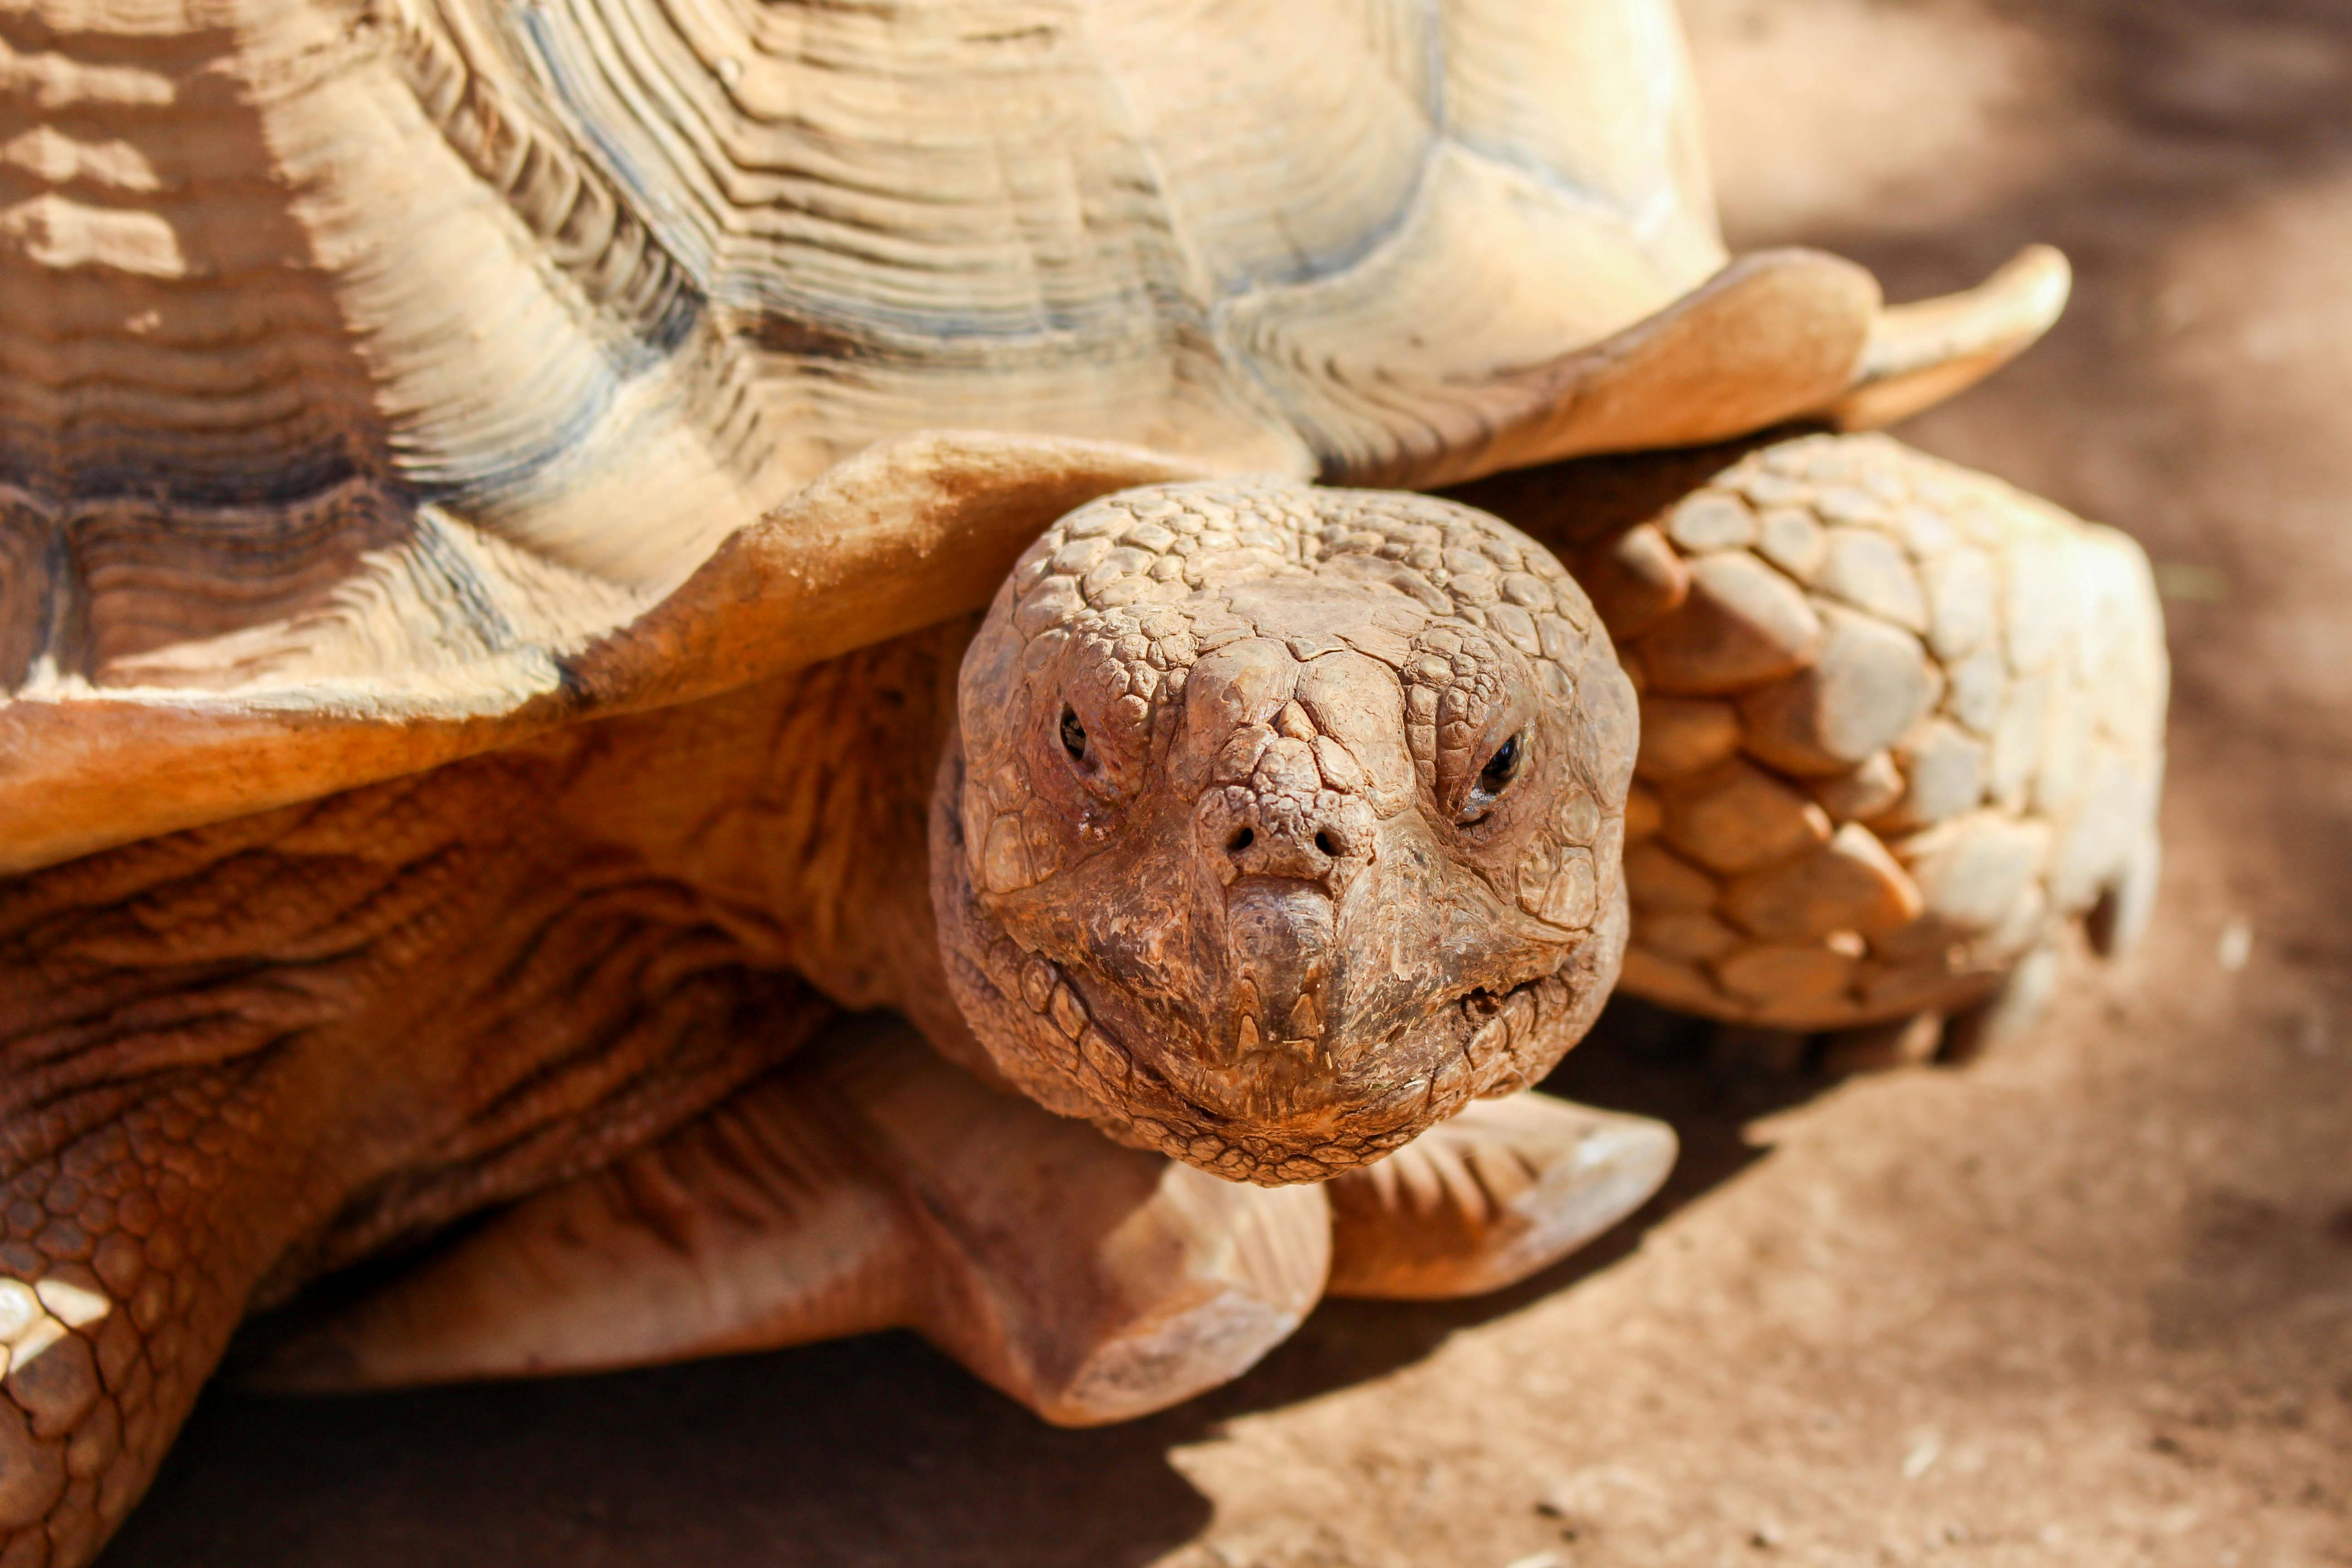turtle: (0, 84, 2177, 1568)
